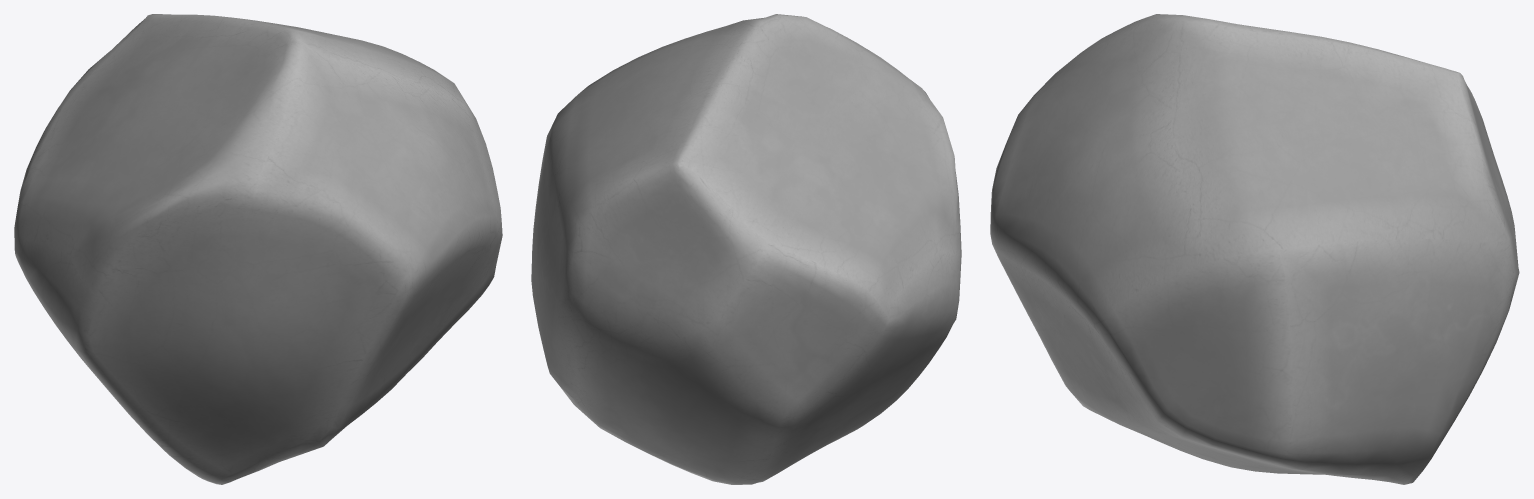
File: Rock.fbx
3 views of the same model, side by side, from view 1: azimuth 30°, elevation 25°; view 2: azimuth 150°, elevation 25°; view 3: azimuth 270°, elevation 25° (orthographic). The views are drawn at different scales.
Parts seen in each view (by area): view 1: Rock; view 2: Rock; view 3: Rock.
Boxes of the visible parts, x1,y1,x2,y2 form: Rock: (14,14,502,484); Rock: (531,14,961,484); Rock: (990,14,1519,484).
Bounding box in the file's own units: 1.15 × 1.13 × 1.14.
Materials: 1 (1 with a texture image).
